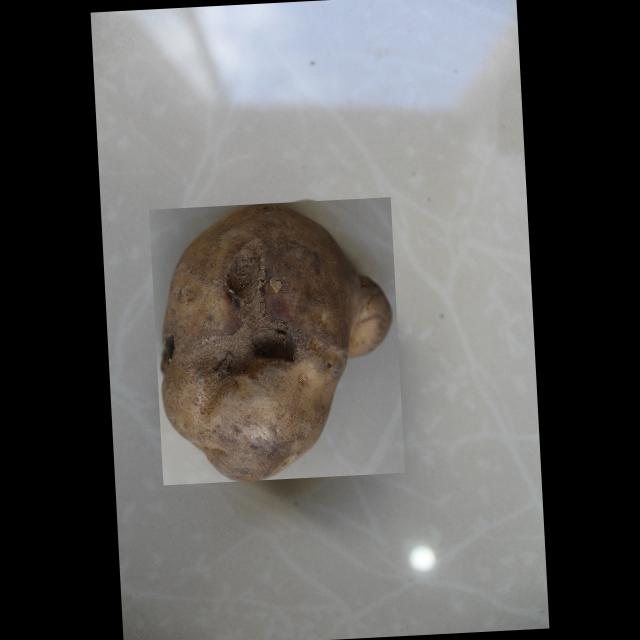Diseased-fungal potato: (149, 196, 405, 484)
